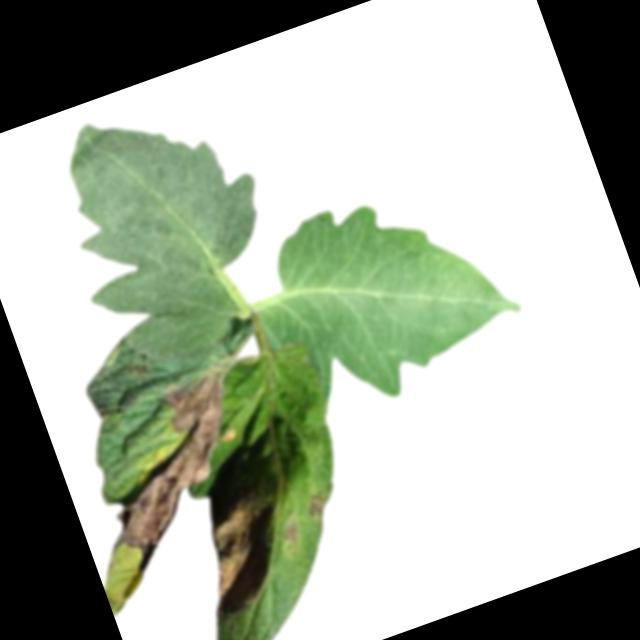Late_blight: (72, 365, 281, 574), (181, 478, 298, 617), (277, 517, 309, 560), (302, 490, 334, 521)
healthy: (232, 157, 539, 434), (34, 75, 297, 355)
